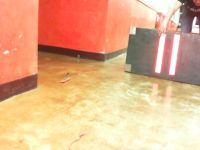switch: (168, 34, 181, 75), (154, 33, 166, 73)
